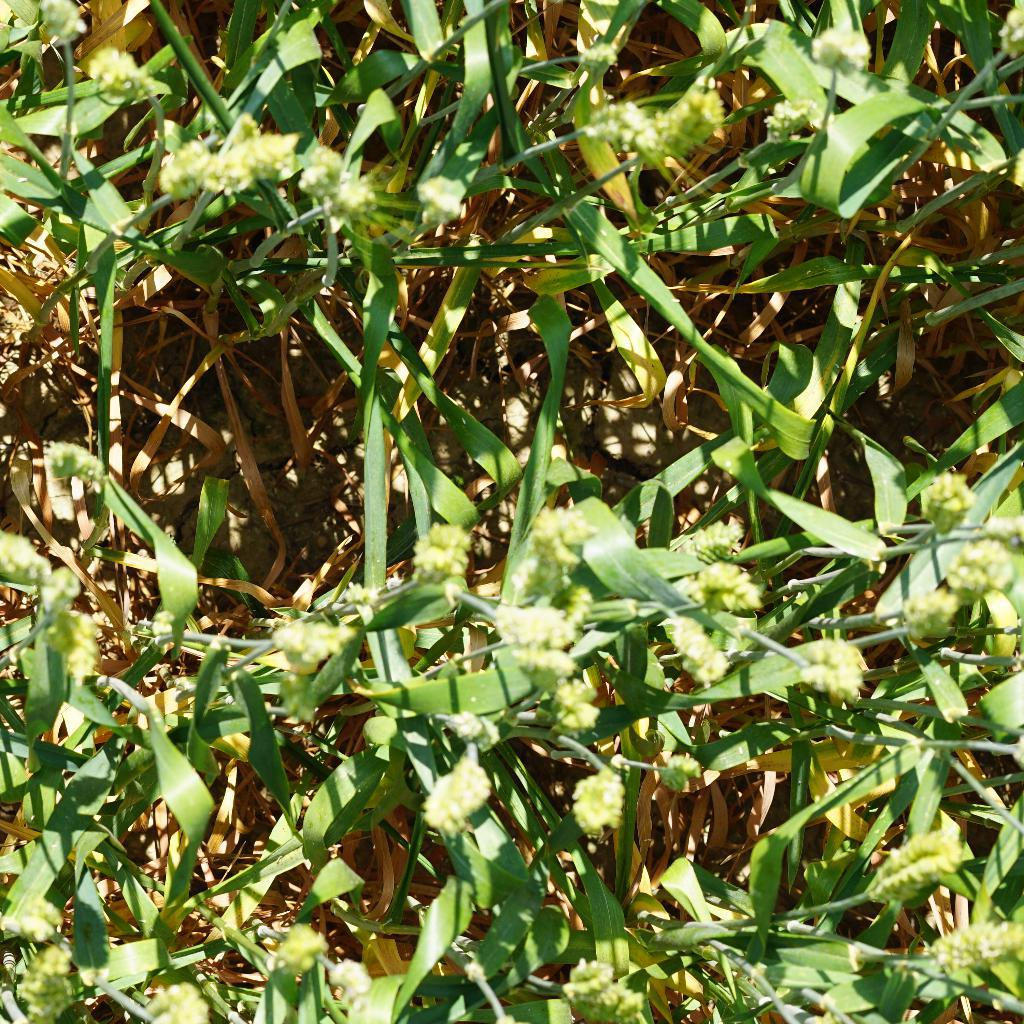0-0: (847, 810, 965, 911), (783, 631, 884, 712), (516, 499, 600, 590), (553, 948, 653, 1024), (400, 500, 484, 586), (419, 736, 492, 833), (662, 499, 758, 572), (915, 917, 1024, 980), (653, 75, 727, 165), (195, 116, 290, 186), (266, 608, 381, 665), (34, 436, 124, 508), (578, 92, 666, 161), (677, 550, 762, 621), (879, 570, 957, 647), (489, 590, 594, 646), (14, 944, 87, 1024), (33, 605, 103, 688), (907, 459, 972, 548), (555, 748, 627, 828), (144, 131, 209, 216), (653, 610, 731, 680), (802, 10, 882, 77), (945, 539, 1017, 606), (545, 679, 616, 739), (257, 922, 328, 980), (19, 0, 97, 51), (415, 161, 477, 224), (751, 90, 826, 142), (556, 36, 631, 88), (316, 168, 385, 224), (130, 976, 210, 1024), (84, 46, 154, 99), (0, 893, 66, 948), (642, 744, 706, 796), (311, 949, 373, 1002), (32, 565, 88, 623), (284, 149, 344, 201), (440, 702, 504, 750), (0, 530, 53, 582)
